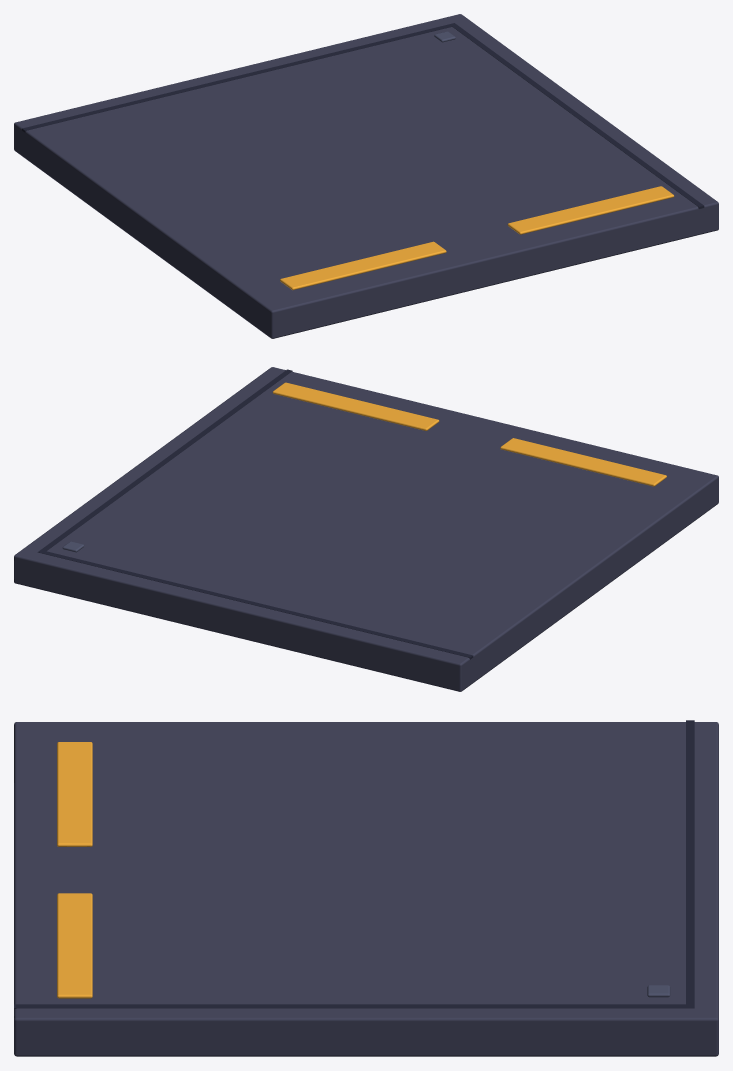
File: floor.plate.EN+hzd.glb
3 renders of one model, top to bottom at view 1: azimuth 30°, elevation 25°; view 2: azimuth 150°, elevation 25°; view 3: azimuth 270°, elevation 25°, orthographic. The views are drawn at different scales.
Parts seen in each view (by area): view 1: floor.plate.EN+hzd; view 2: floor.plate.EN+hzd; view 3: floor.plate.EN+hzd.
Part boxes in pixels (x1,y1,x2,y2): floor.plate.EN+hzd: (14,14,718,338); floor.plate.EN+hzd: (14,367,718,691); floor.plate.EN+hzd: (14,720,718,1056).
Size of the model in its own units: 0.984 by 0.066 by 0.984.
